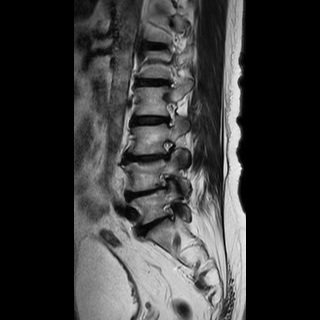LFS0: (155, 98, 183, 131), (156, 201, 182, 229)
LFS2: (156, 134, 183, 165)
LFS3: (152, 167, 177, 199)
